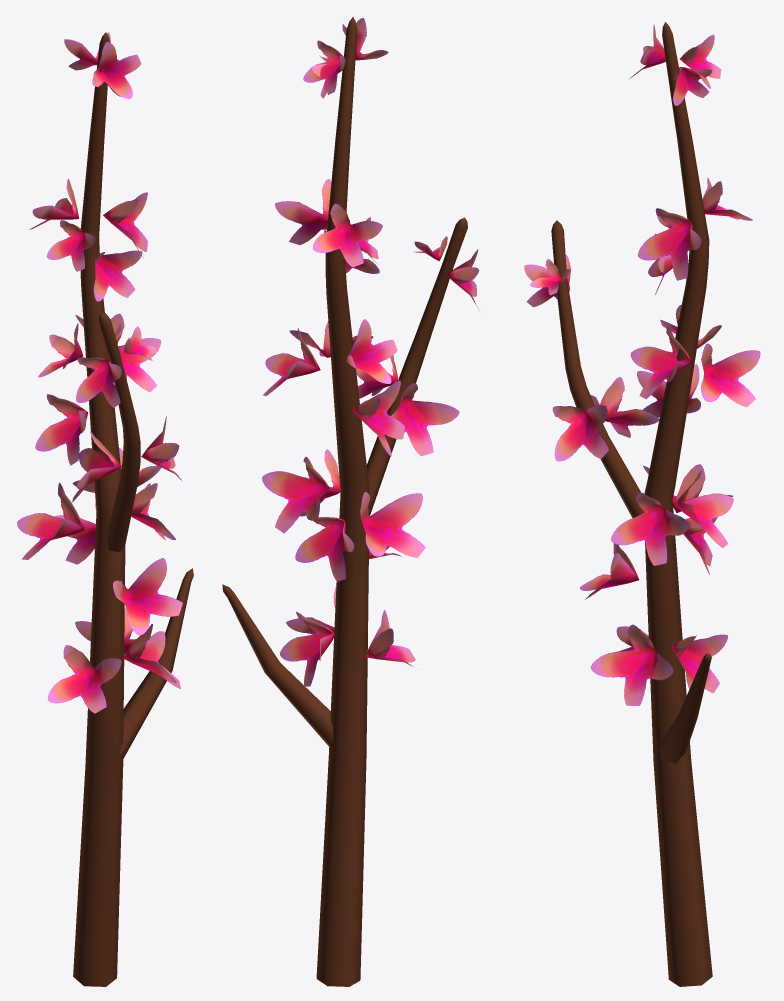
The model's file is SE_Branch_02.fbx.
3 renders of one model, left to right at view 1: azimuth 30°, elevation 25°; view 2: azimuth 150°, elevation 25°; view 3: azimuth 270°, elevation 25°, orthographic.
Visible parts, largest first — view 1: SE_Branch_02; view 2: SE_Branch_02; view 3: SE_Branch_02.
Part boxes in pixels (box(x1,y1,x2,y2)): SE_Branch_02: box(17, 32, 193, 986); SE_Branch_02: box(222, 17, 479, 986); SE_Branch_02: box(524, 22, 760, 986).
Size of the model in its own units: 1.16 by 5.29 by 1.27.
